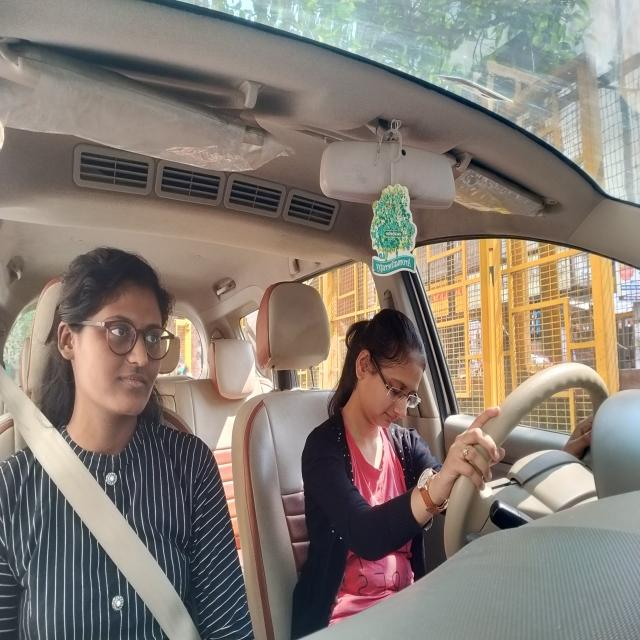drowsy: (345, 312, 421, 432)
person: (47, 253, 168, 419)
